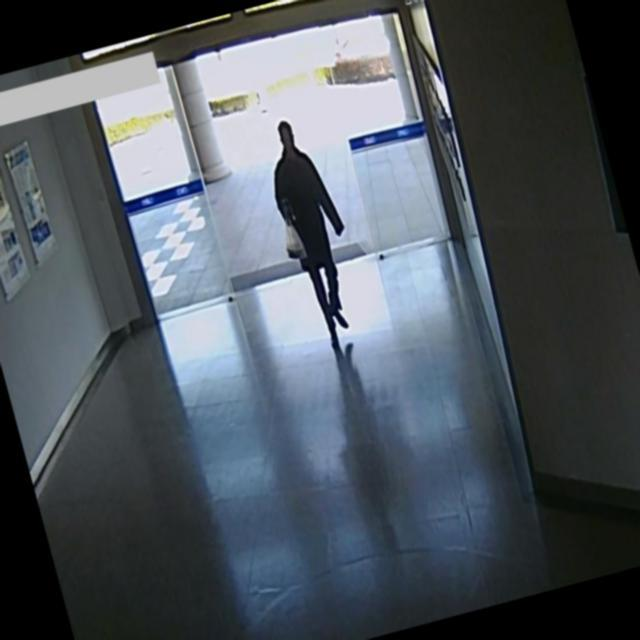person: (249, 106, 388, 361)
